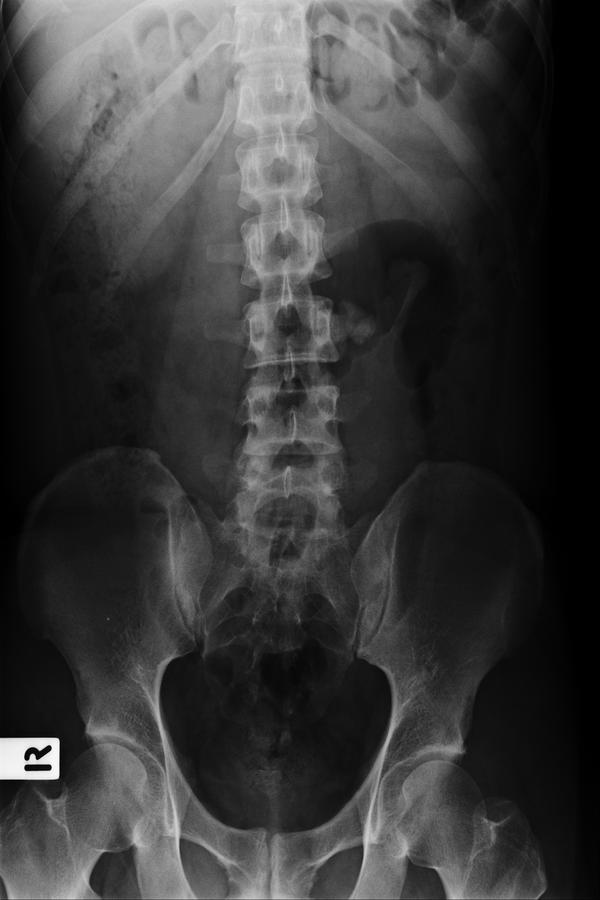lumbar scoliosis: (219, 12, 347, 598)
